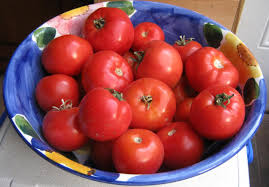tomato: (189, 82, 242, 137), (186, 42, 238, 95), (123, 74, 174, 128), (81, 45, 137, 92), (113, 126, 169, 170), (83, 87, 130, 137), (135, 39, 178, 91), (85, 6, 126, 53)
